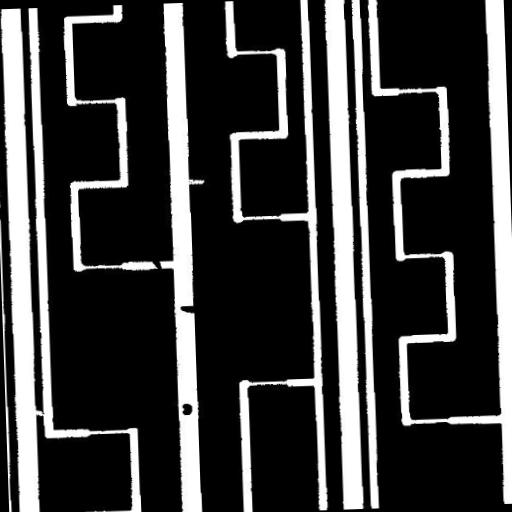copper: (174, 395, 200, 422)
mousebite: (176, 168, 212, 192)
open: (22, 401, 52, 424)
short: (144, 250, 168, 280)
spur: (172, 297, 205, 321)
